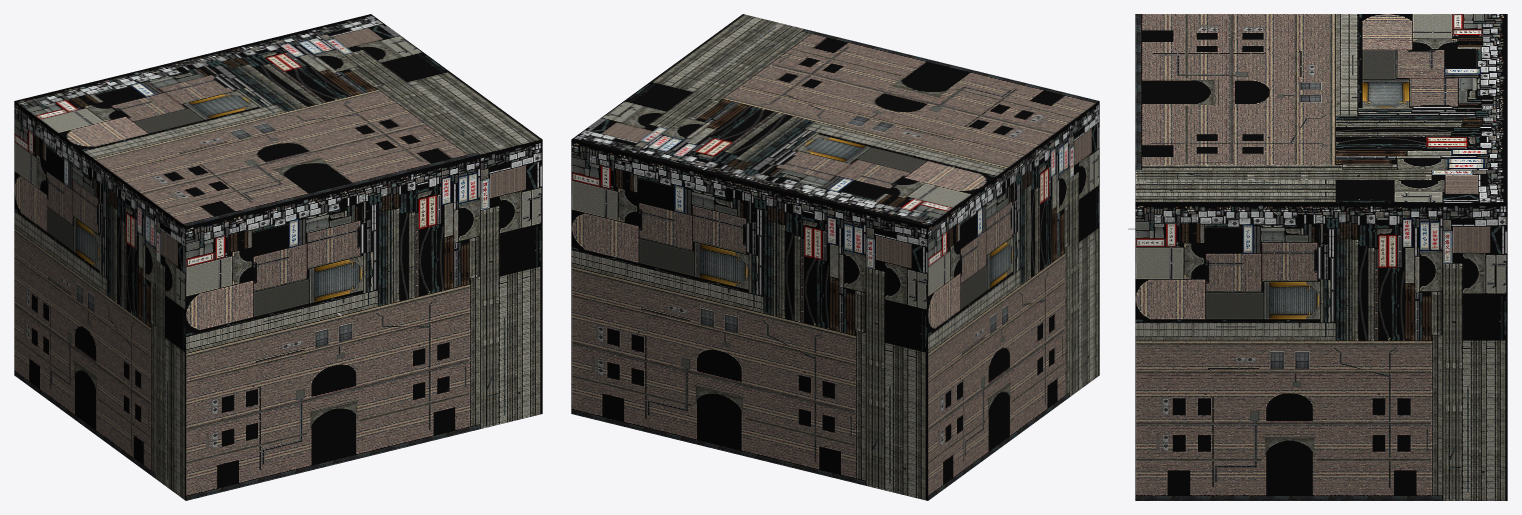
File: Building_008.DAE
The picture shows the model from 3 angles, left to right: view 1: azimuth 30°, elevation 25°; view 2: azimuth 150°, elevation 25°; view 3: azimuth 270°, elevation 25°; orthographic projection. The views are drawn at different scales.
Parts seen in each view (by area): view 1: bounds; view 2: bounds; view 3: bounds.
Part boxes in pixels (x1,y1,x2,y2): bounds: (14,14,542,500); bounds: (571,14,1099,500); bounds: (1135,14,1507,500).
Size of the model in its own units: 2529 by 2145 by 1859.
